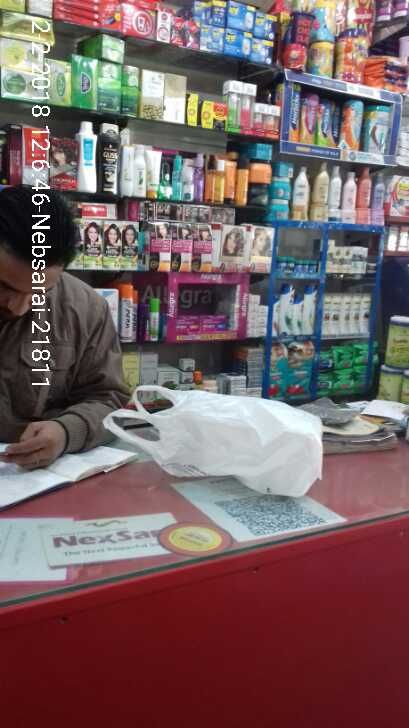vicks: (273, 255, 320, 274)
